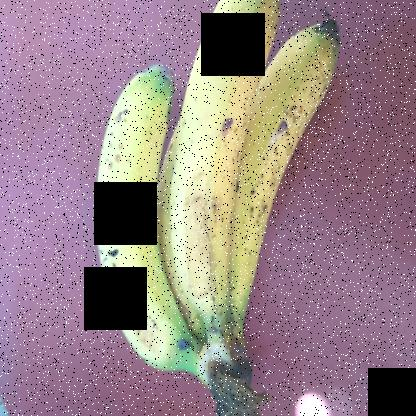ripe: (224, 16, 342, 370), (168, 0, 274, 348), (97, 43, 197, 388)
